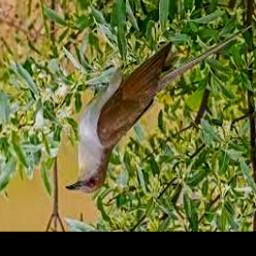Cuckoo: (64, 24, 252, 194)
